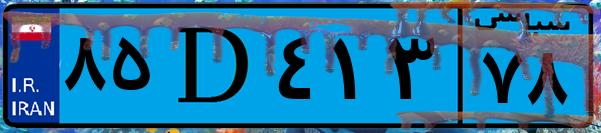1: (330, 28, 385, 110)
3: (385, 28, 445, 110)
4: (270, 28, 330, 110)
5: (110, 28, 158, 98)
7: (475, 38, 525, 113)
8: (57, 26, 110, 100), (525, 38, 570, 115)
D: (158, 12, 270, 120)
